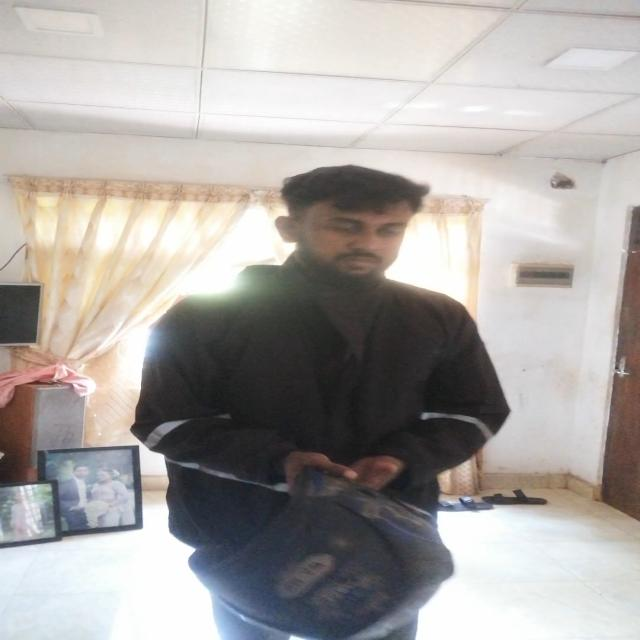Jacket_Wearer: (140, 257, 524, 560)
Person: (148, 147, 512, 640)
